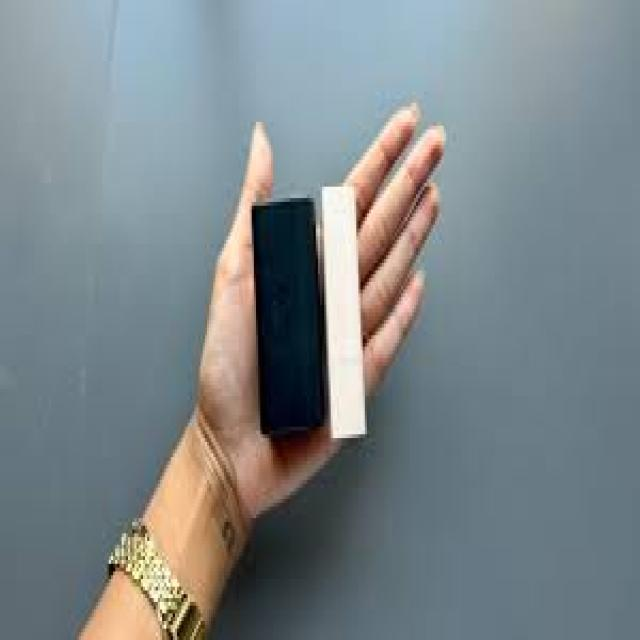power_bank: (248, 196, 324, 446), (317, 185, 369, 444)
